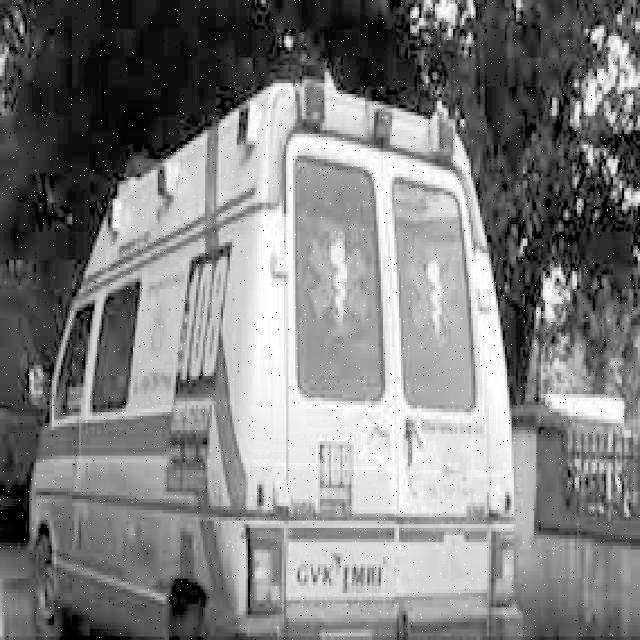LCV: (242, 92, 524, 639)
